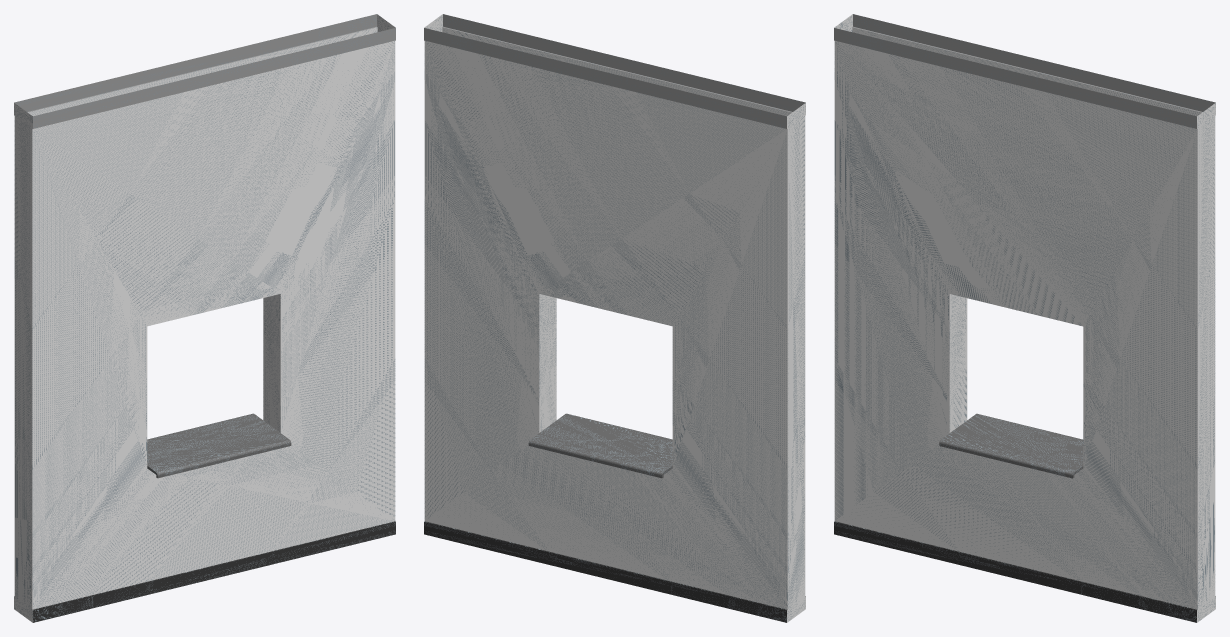
File: BlockWall_Sluise_ds_plinth[300x400x025]_112x110x[100].dae
3 renders of one model, left to right at view 1: azimuth 30°, elevation 25°; view 2: azimuth 150°, elevation 25°; view 3: azimuth 330°, elevation 25°, orthographic.
Visible parts, largest first — view 1: group_0 (×6); view 2: group_0 (×6); view 3: group_0 (×6).
Part boxes in pixels (x1,y1,x2,y2): group_0 (×6): (14, 14, 395, 622); group_0 (×6): (424, 14, 805, 622); group_0 (×6): (834, 14, 1215, 622).
Bounding box in the file's own units: 118 × 21.65 × 157.
